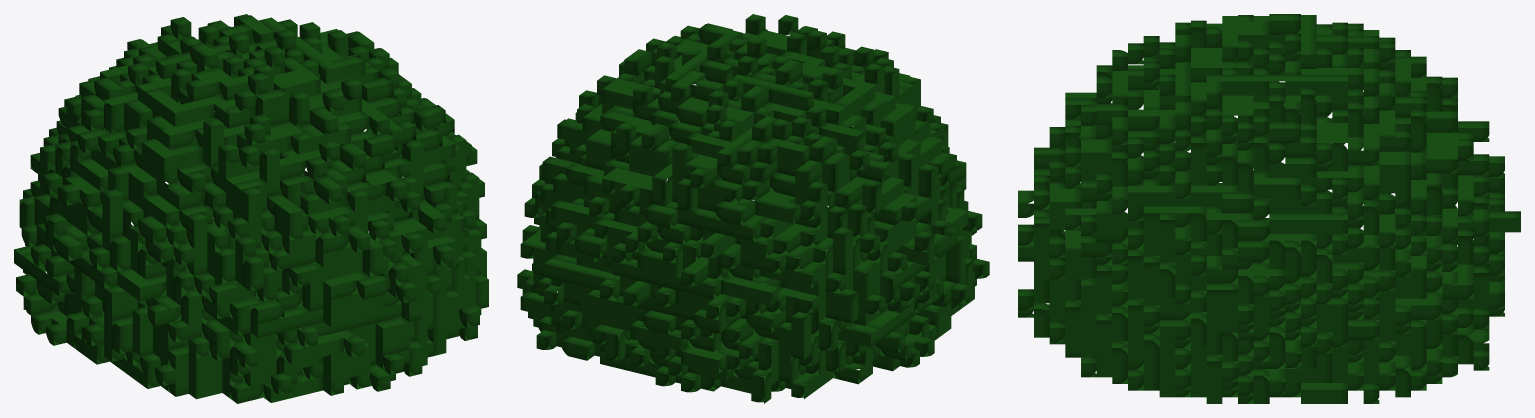
Rendered from bush.dae.
3 views of the same model, side by side, from view 1: azimuth 30°, elevation 25°; view 2: azimuth 150°, elevation 25°; view 3: azimuth 270°, elevation 25° (orthographic). The views are drawn at different scales.
Parts seen in each view (by area): view 1: bush; view 2: bush; view 3: bush.
Boxes of the visible parts, bbox=[...] form: bush: bbox=[14, 14, 488, 403]; bush: bbox=[517, 14, 989, 403]; bush: bbox=[1018, 14, 1520, 403].
Bounding box in the file's own units: 30 × 19 × 32.
Materials: 1 (1 with a texture image).
